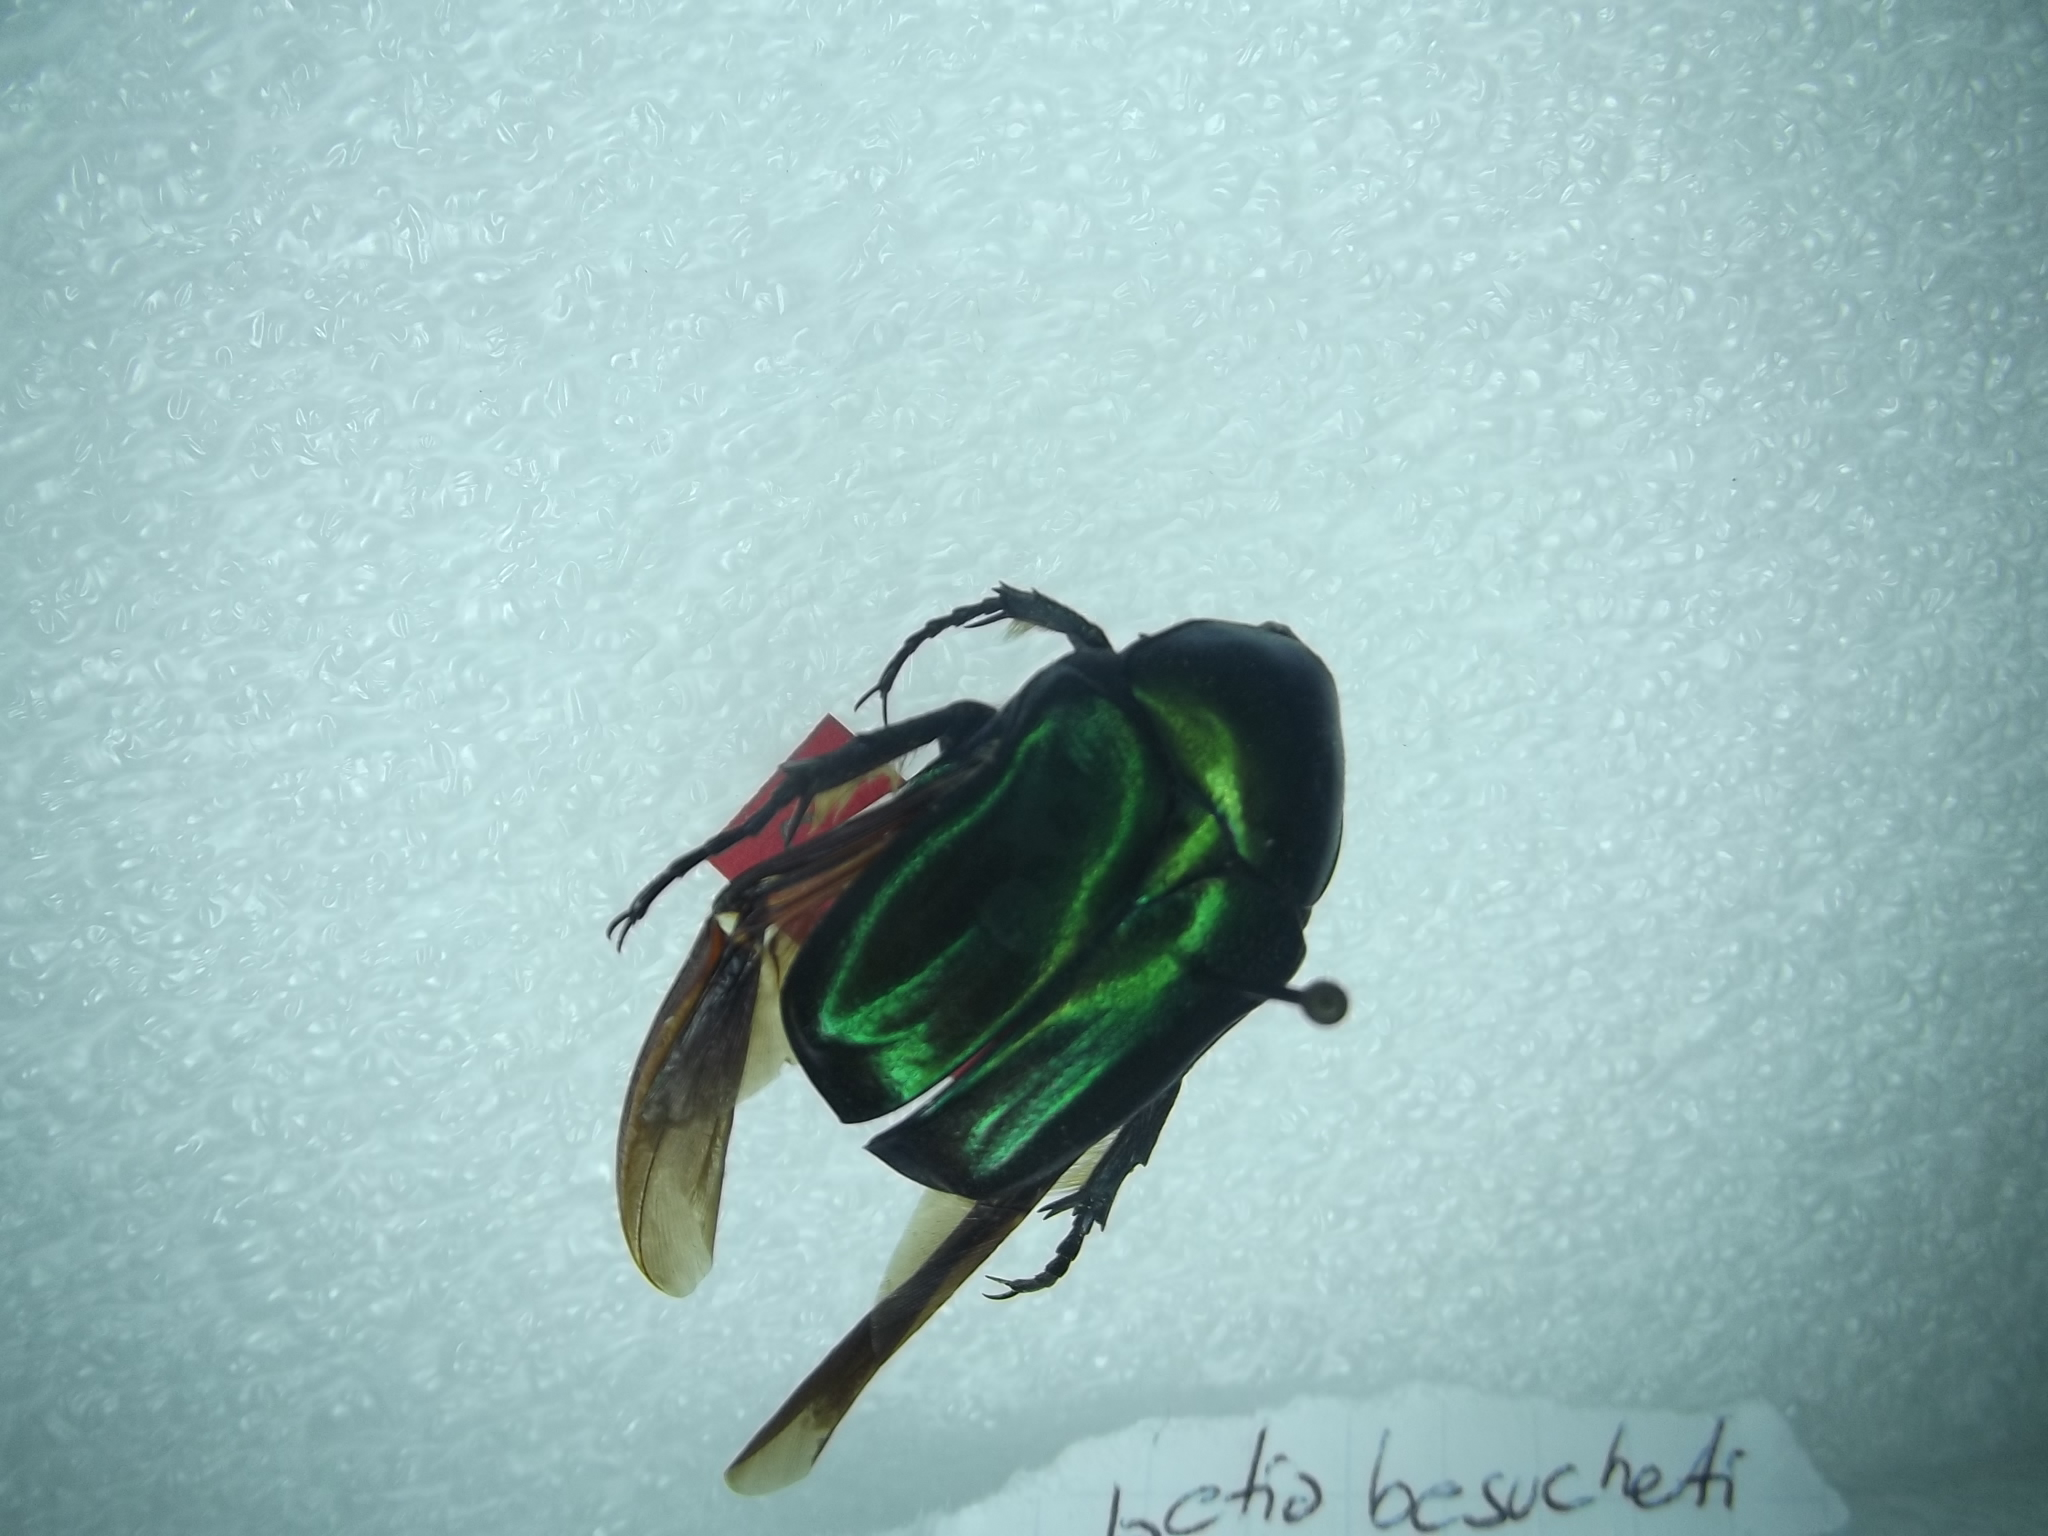Protaetia_besucheti: (584, 544, 1367, 1536)
